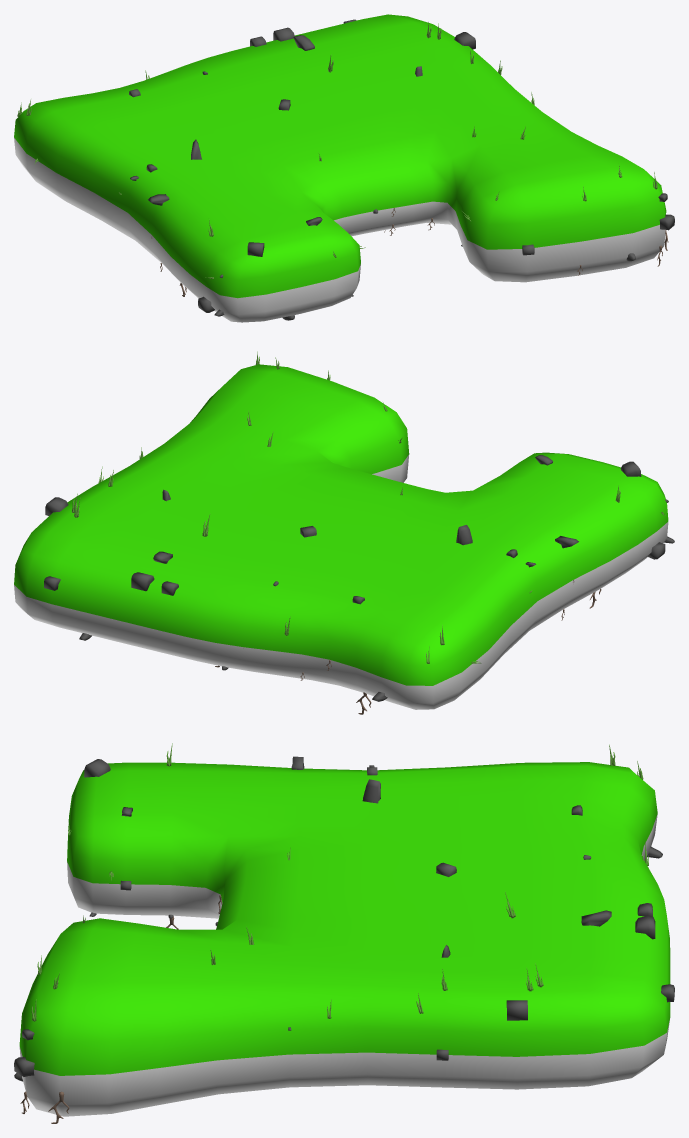
The model's file is floor_v2.fbx.
3 renders of one model, top to bottom at view 1: azimuth 30°, elevation 25°; view 2: azimuth 150°, elevation 25°; view 3: azimuth 270°, elevation 25°, orthographic. The views are drawn at different scales.
Parts seen in each view (by area): view 1: Floor; view 2: Floor; view 3: Floor.
Part boxes in pixels (x1,y1,x2,y2): Floor: (14,14,674,322); Floor: (14,351,674,714); Floor: (14,743,674,1123).
Size of the model in its own units: 646 by 157 by 661.
